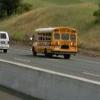Bus: (27, 22, 80, 62)
